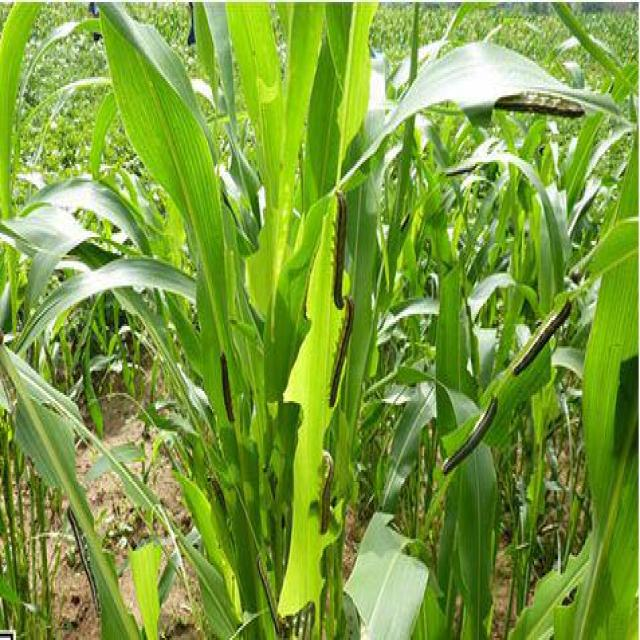pest: (67, 509, 109, 619), (446, 399, 501, 476), (512, 309, 572, 378), (262, 547, 290, 635), (335, 191, 354, 309), (338, 312, 356, 412), (325, 452, 344, 541), (223, 355, 241, 430), (209, 475, 233, 522)
